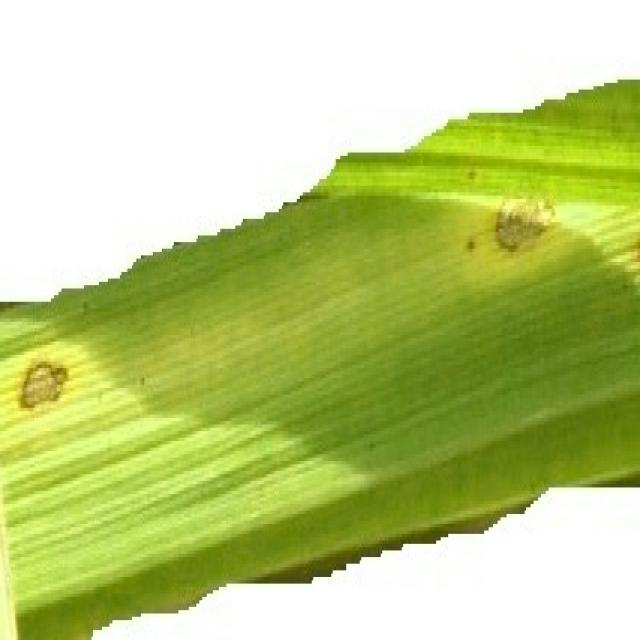Unhealthy: (459, 201, 563, 262), (12, 347, 76, 425)
